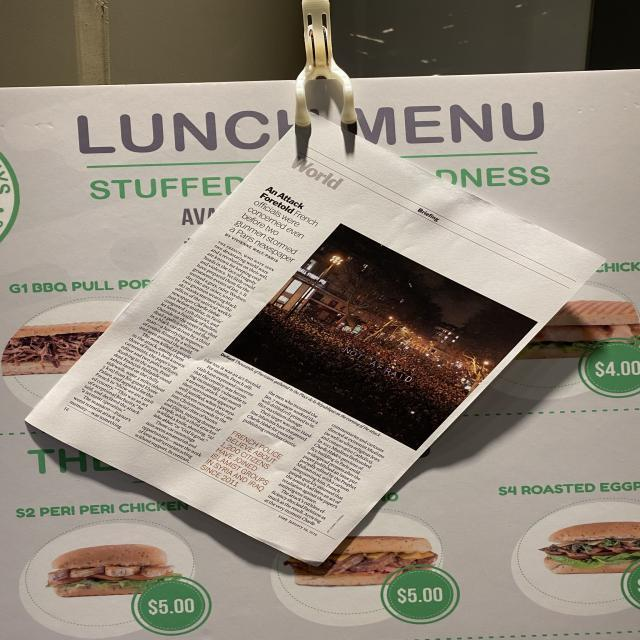document: (27, 116, 603, 565)
